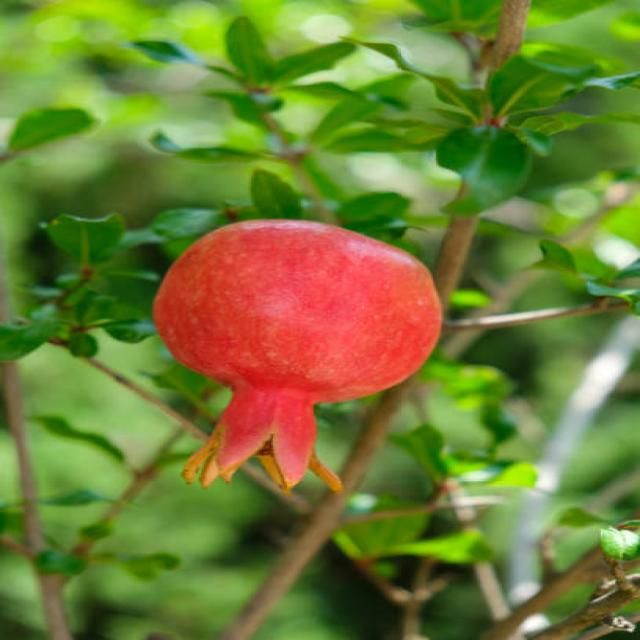Ripe: (146, 214, 442, 492)
